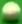white: (0, 0, 22, 24)
